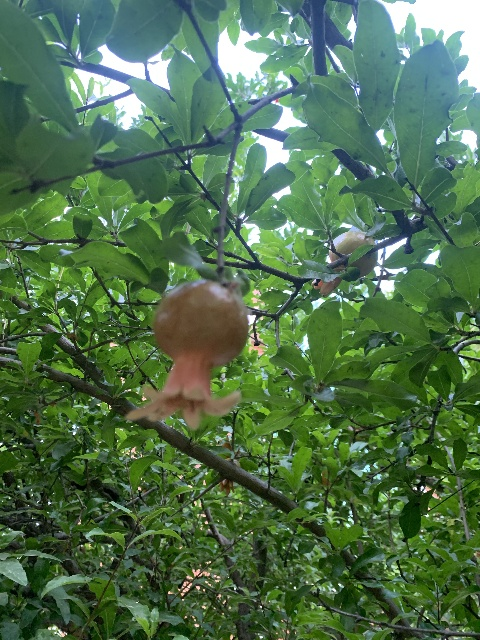early-fruit: (126, 281, 247, 430)
mid-growth: (312, 230, 377, 298)
